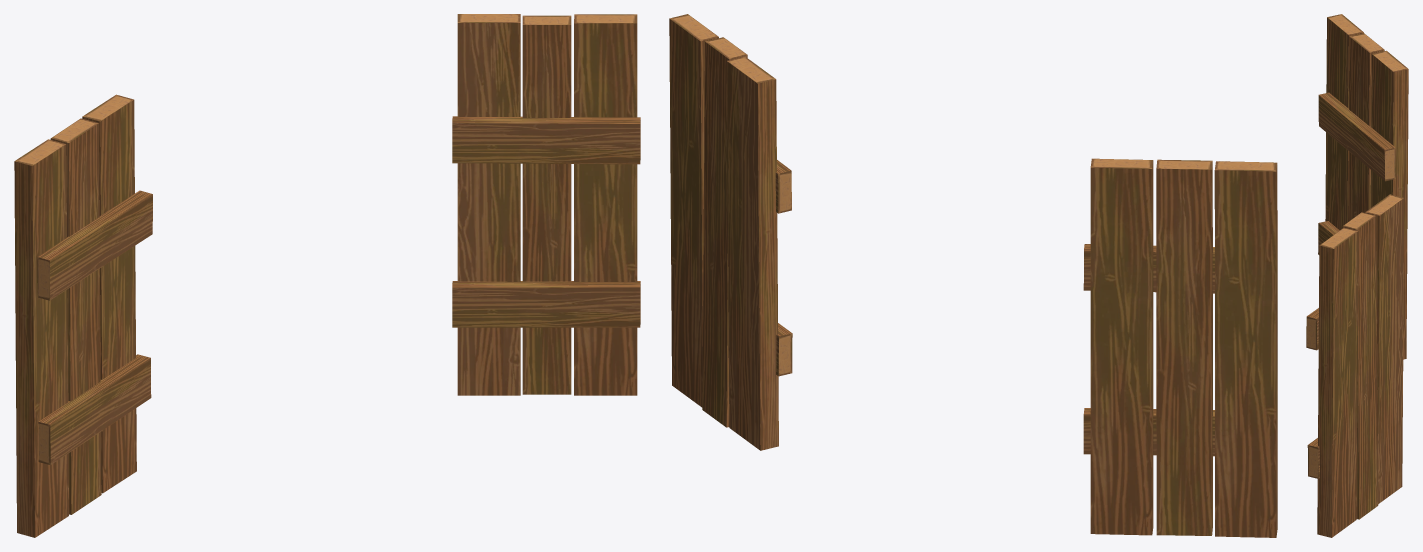
File: WindowShutters_Wide_Flat_Open.gltf
The picture shows the model from 3 angles, left to right: view 1: azimuth 30°, elevation 25°; view 2: azimuth 150°, elevation 25°; view 3: azimuth 270°, elevation 25°; orthographic projection. The views are drawn at different scales.
Parts seen in each view (by area): view 1: WindowShutters_Wide_Flat_Open; view 2: WindowShutters_Wide_Flat_Open; view 3: WindowShutters_Wide_Flat_Open.
Boxes of the visible parts, <box> form: WindowShutters_Wide_Flat_Open: <box>14,14,640,537</box>; WindowShutters_Wide_Flat_Open: <box>669,14,1277,537</box>; WindowShutters_Wide_Flat_Open: <box>1306,14,1408,537</box>.
Size of the model in its own units: 2.48 by 1.42 by 0.4565.
Materials: 1 (1 with a texture image).
